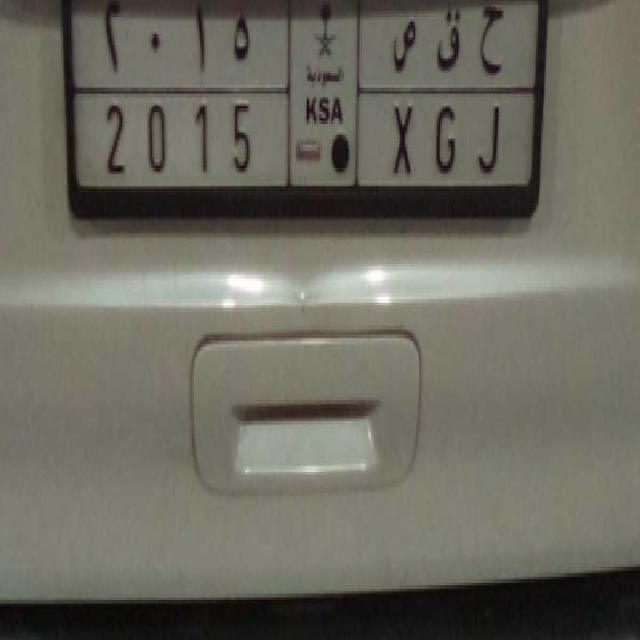license_plate: (88, 81, 517, 199)
